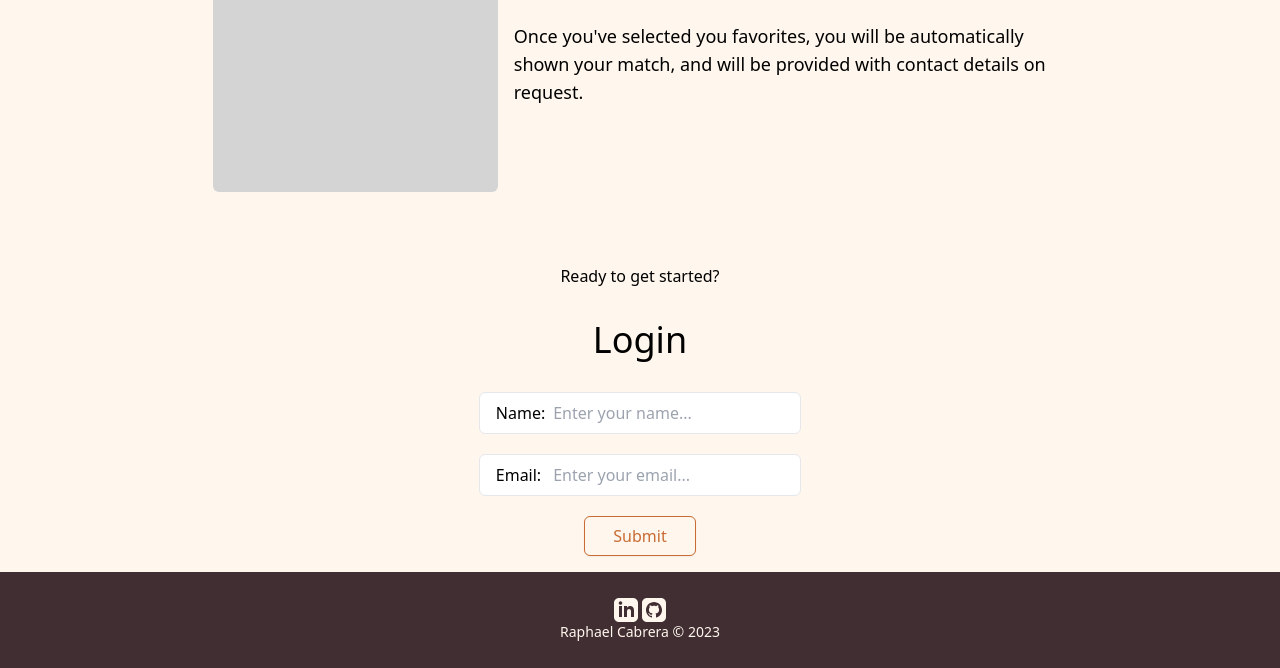
The login process › fails login if email is incorrect
(page scrolled)
Type "bob" into the field named "name" at (669, 413), box [553,401,784,425]
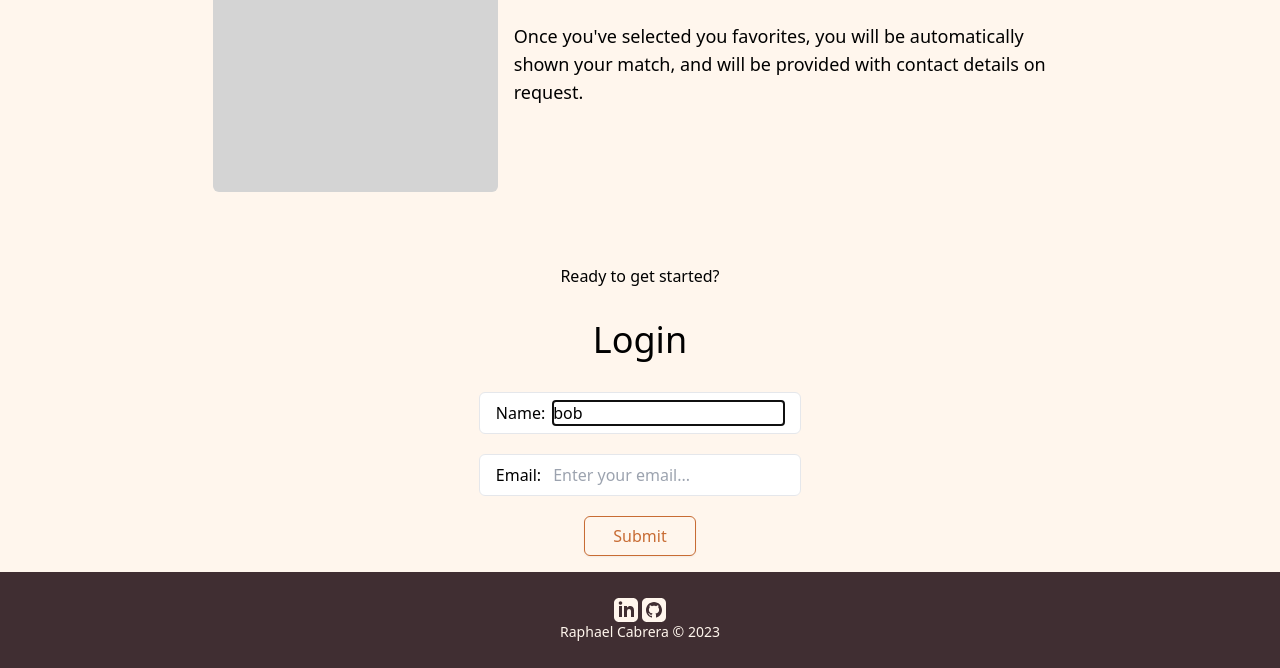
Type "test@testcom" into the field named "email" at (669, 475), box [553,463,784,487]
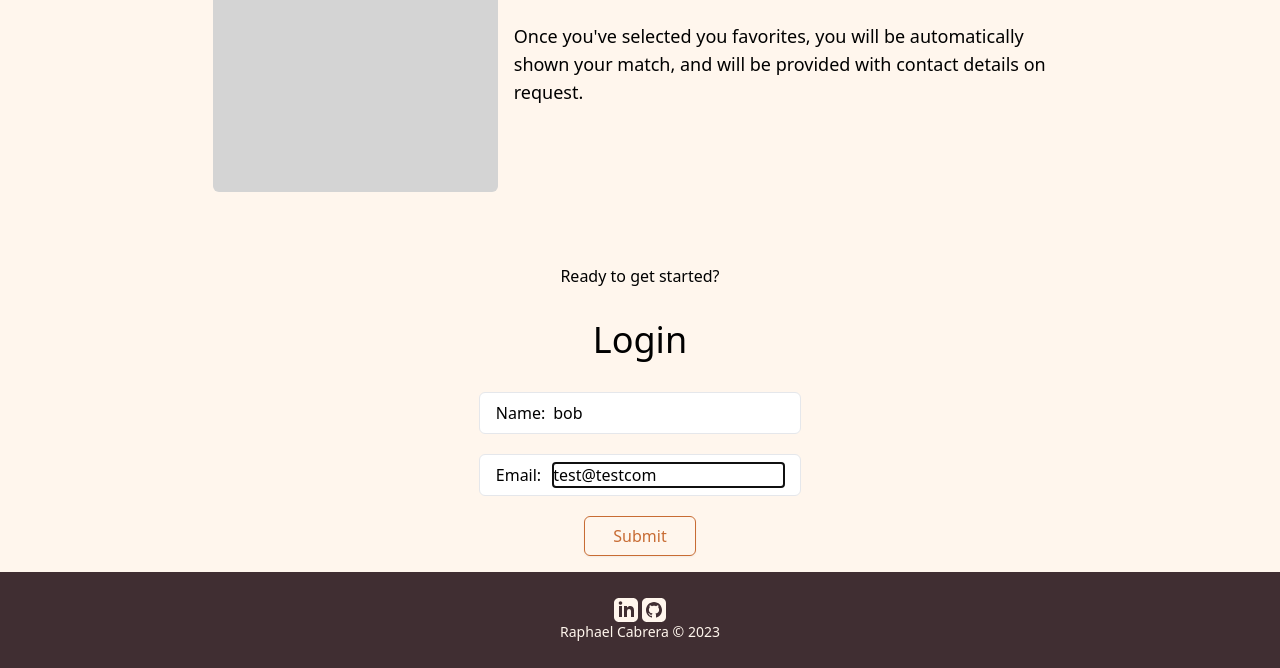
Click the submit button at (640, 536), box [584,516,696,556]
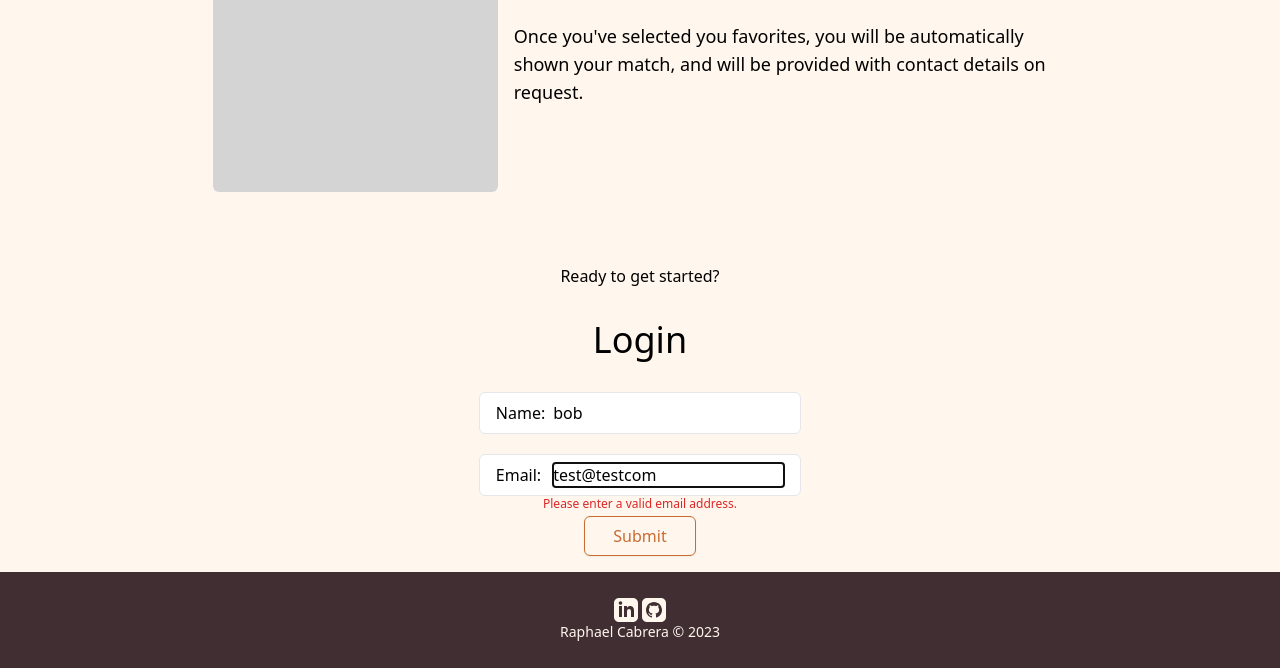
Expected: the text "Please enter a valid email address." is shown, [543,496,737,512]
